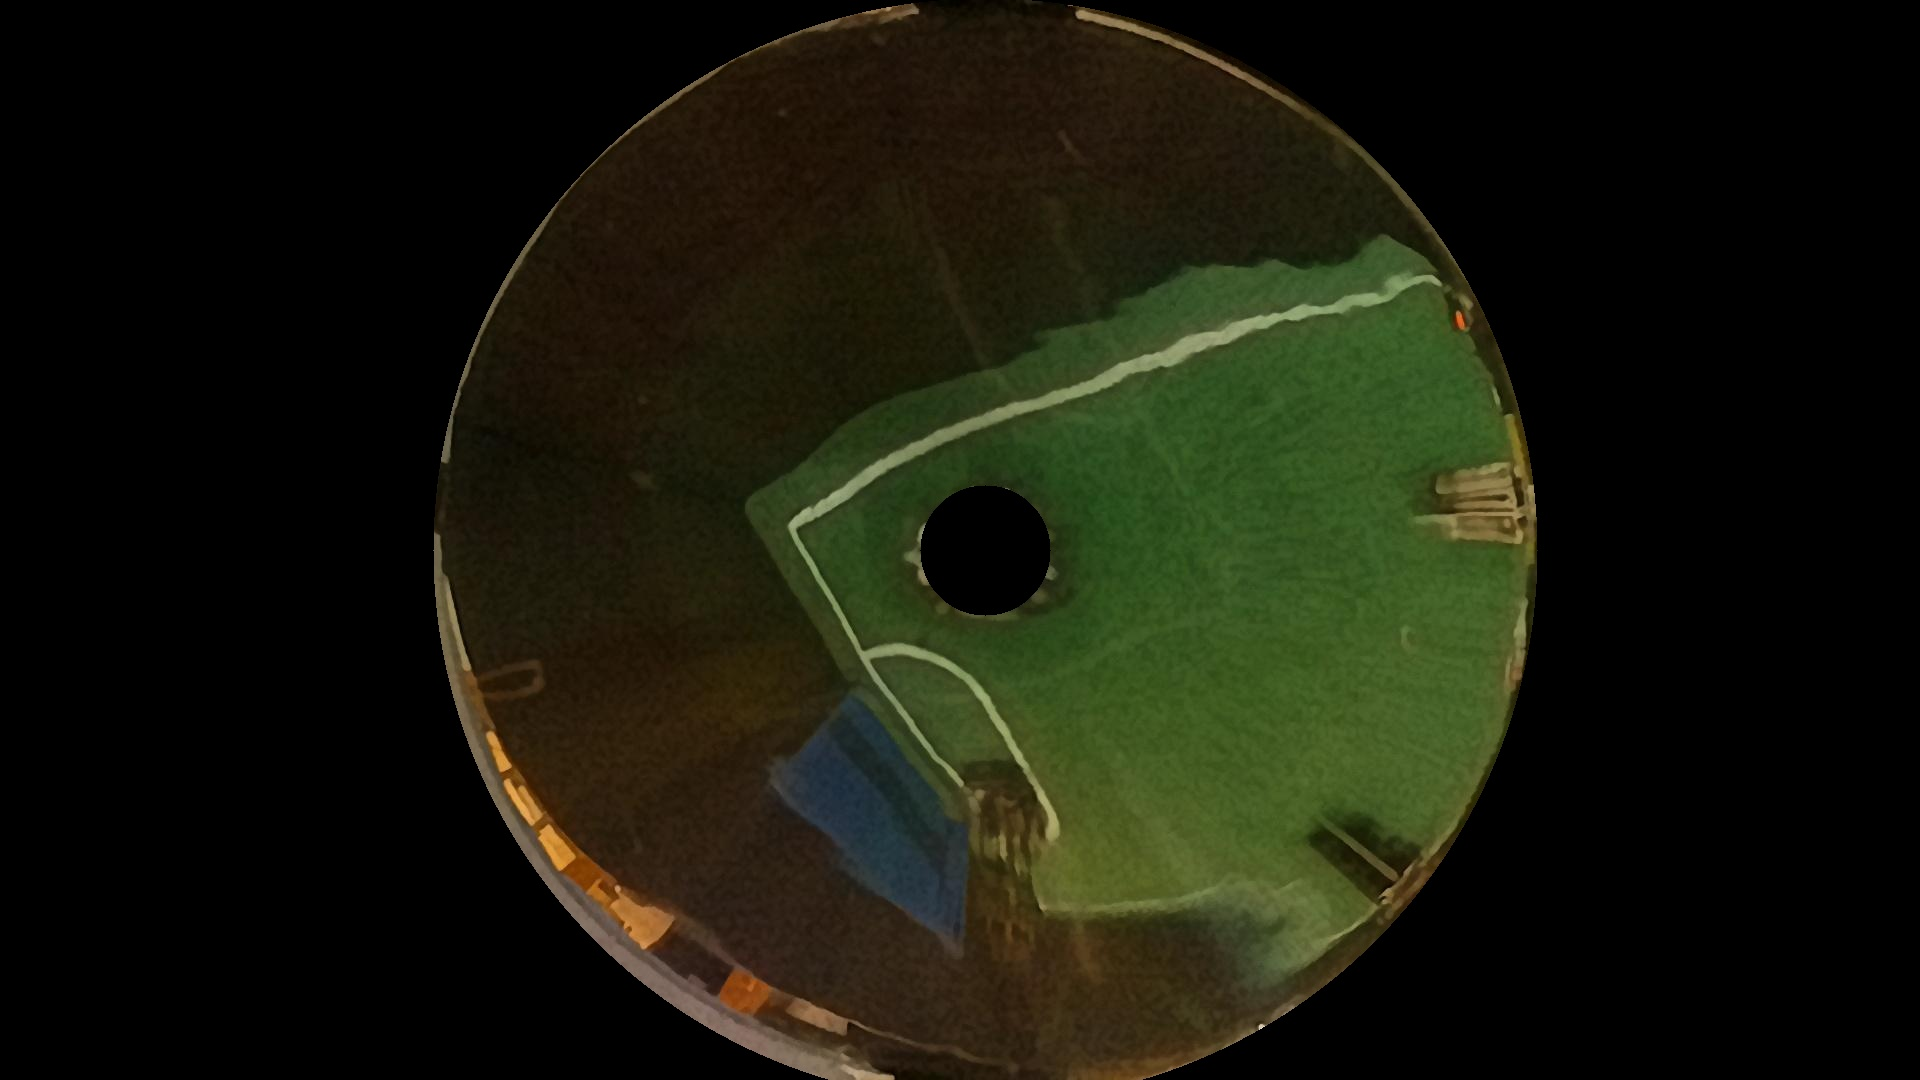ball: (1447, 301, 1473, 343)
blue-goal: (781, 695, 988, 935)
robots: (961, 771, 1067, 947), (1433, 455, 1535, 550)
yellow-goal: (1497, 404, 1532, 462)
